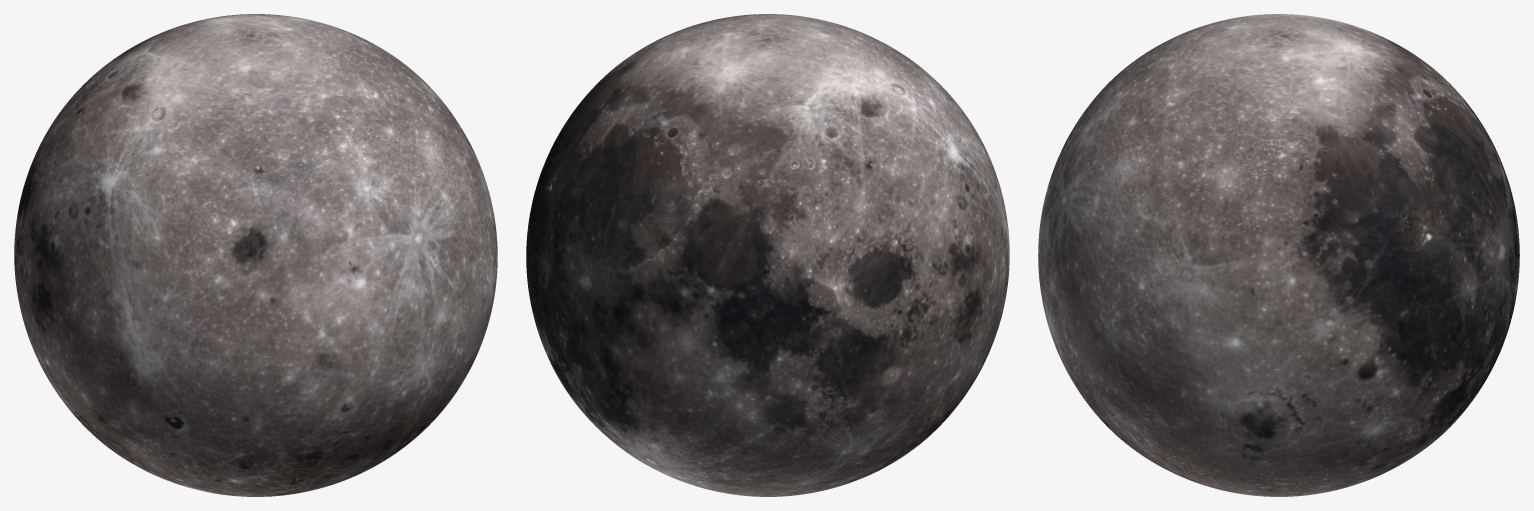
The model's file is moon.glb.
3 renders of one model, left to right at view 1: azimuth 30°, elevation 25°; view 2: azimuth 150°, elevation 25°; view 3: azimuth 270°, elevation 25°, orthographic.
Parts seen in each view (by area): view 1: Cube; view 2: Cube; view 3: Cube.
Part boxes in pixels (left/top/right/bottom): Cube: left=14, top=14, right=497, bottom=496; Cube: left=526, top=14, right=1009, bottom=496; Cube: left=1038, top=14, right=1519, bottom=496.
Size of the model in its own units: 2.54 by 2.54 by 2.54.
1 material, 1 textured.
